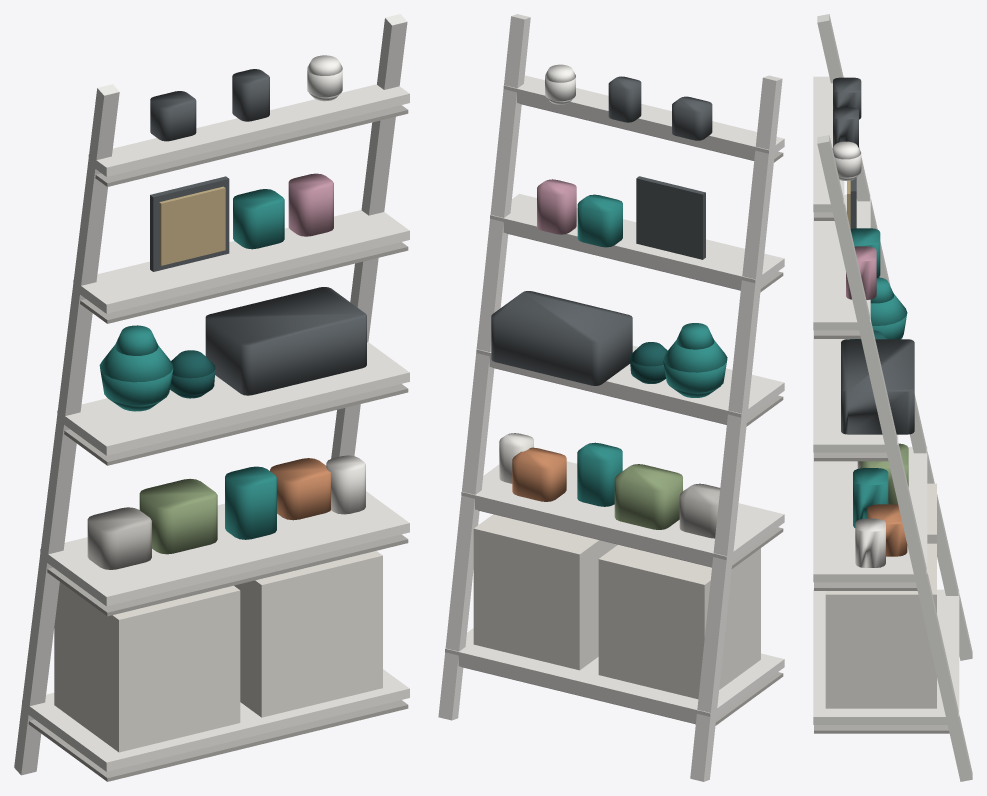
Rendered from rios_ladder_shelf.glb.
3 renders of one model, left to right at view 1: azimuth 30°, elevation 25°; view 2: azimuth 150°, elevation 25°; view 3: azimuth 270°, elevation 25°, orthographic. The views are drawn at different scales.
Parts seen in each view (by area): view 1: root; view 2: root; view 3: root.
Part boxes in pixels (box(x1,y1,x2,y2)): root: box(14, 14, 409, 781); root: box(438, 14, 784, 781); root: box(813, 14, 972, 781).
Size of the model in its own units: 0.7772 by 1.82 by 0.4104.
